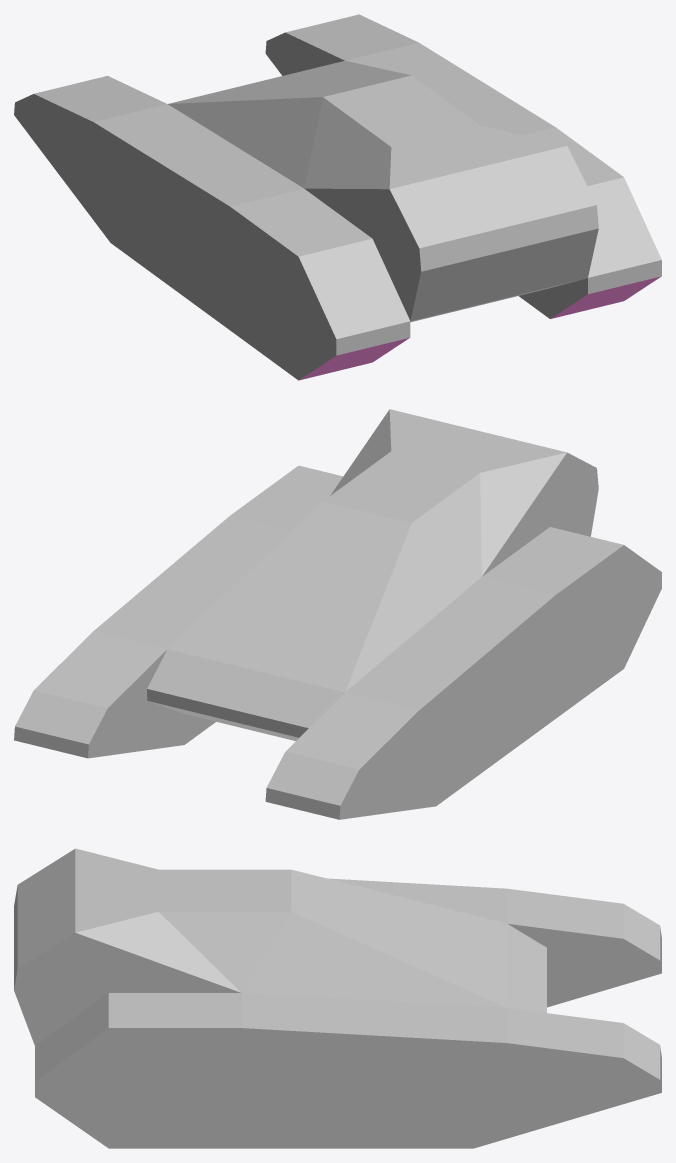
The picture shows the model from 3 angles, top to bottom: view 1: azimuth 30°, elevation 25°; view 2: azimuth 150°, elevation 25°; view 3: azimuth 270°, elevation 25°; orthographic projection. The views are drawn at different scales.
Visible parts, largest first — view 1: hull; view 2: hull; view 3: hull.
Part boxes in pixels (x1,y1,x2,y2): hull: (14,14,661,380); hull: (14,409,661,819); hull: (14,848,661,1148).
Bounding box in the file's own units: 363 × 198 × 644.
